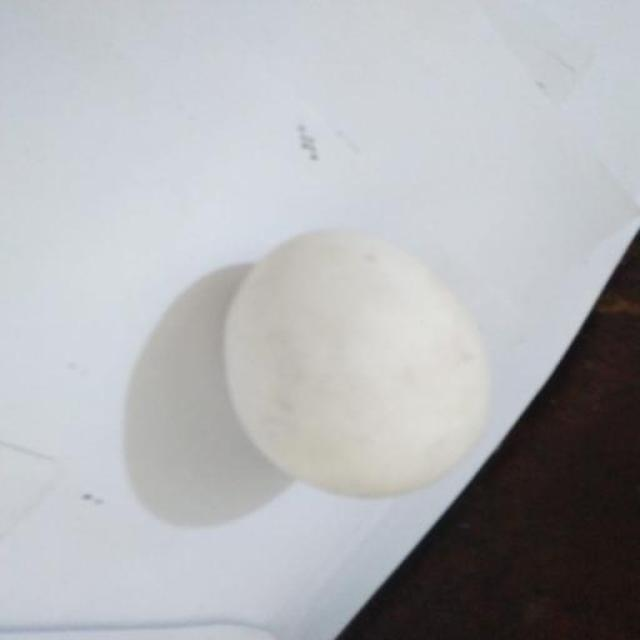telur: (223, 227, 491, 498)
